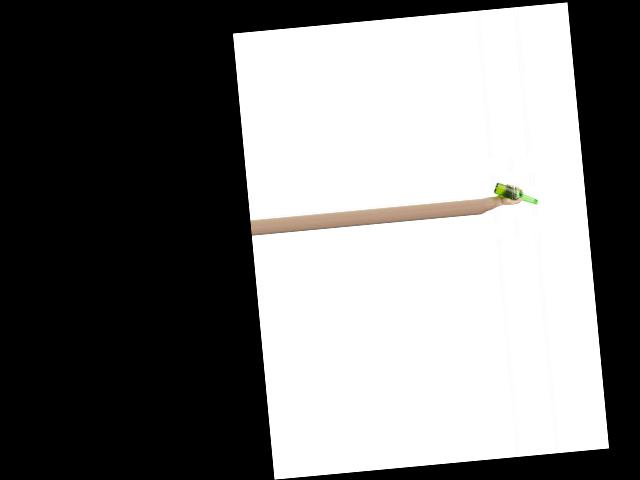beer: (493, 179, 538, 208)
